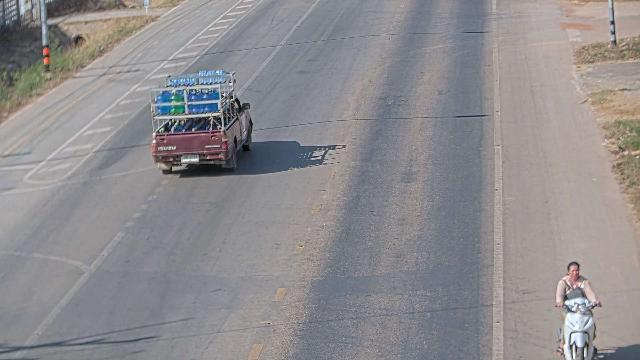motorcycle: (552, 272, 604, 360)
pickup-truck: (148, 69, 253, 174)
